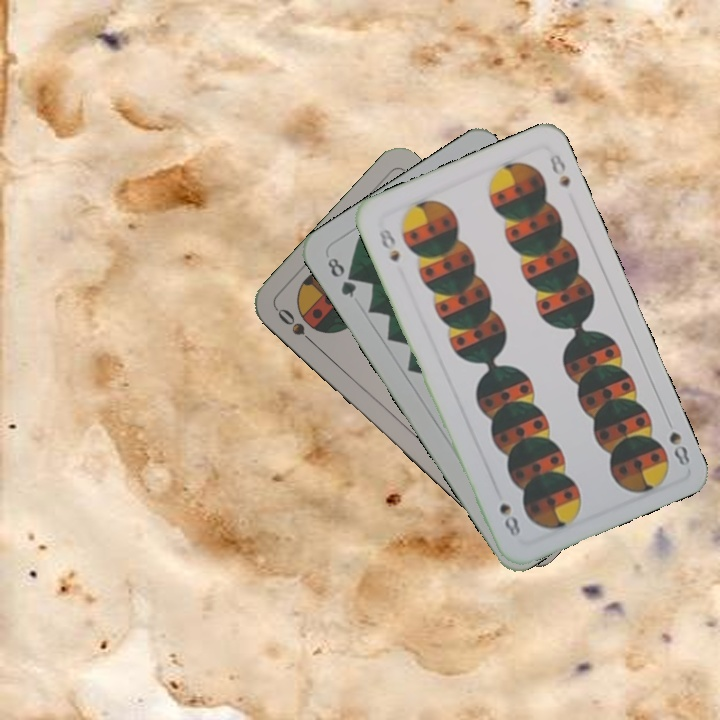G8: (323, 253, 360, 301)
S8: (661, 412, 693, 469), (375, 224, 403, 264)
SO: (273, 304, 320, 350)
